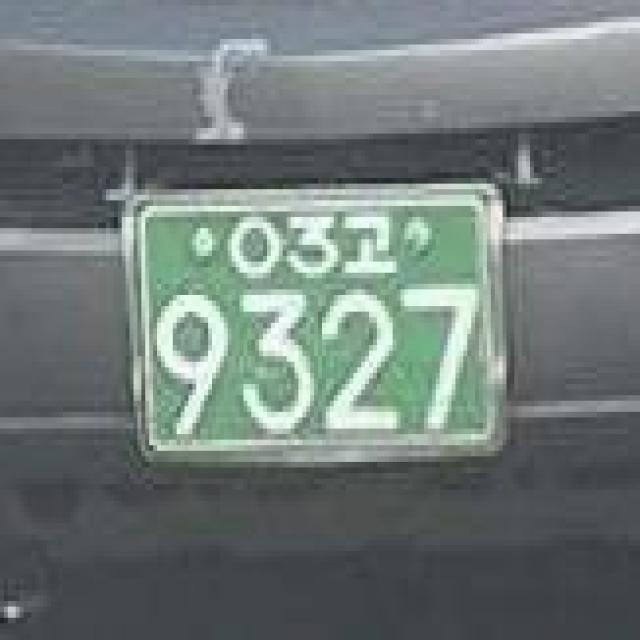illegal_plate: (117, 172, 522, 489)
